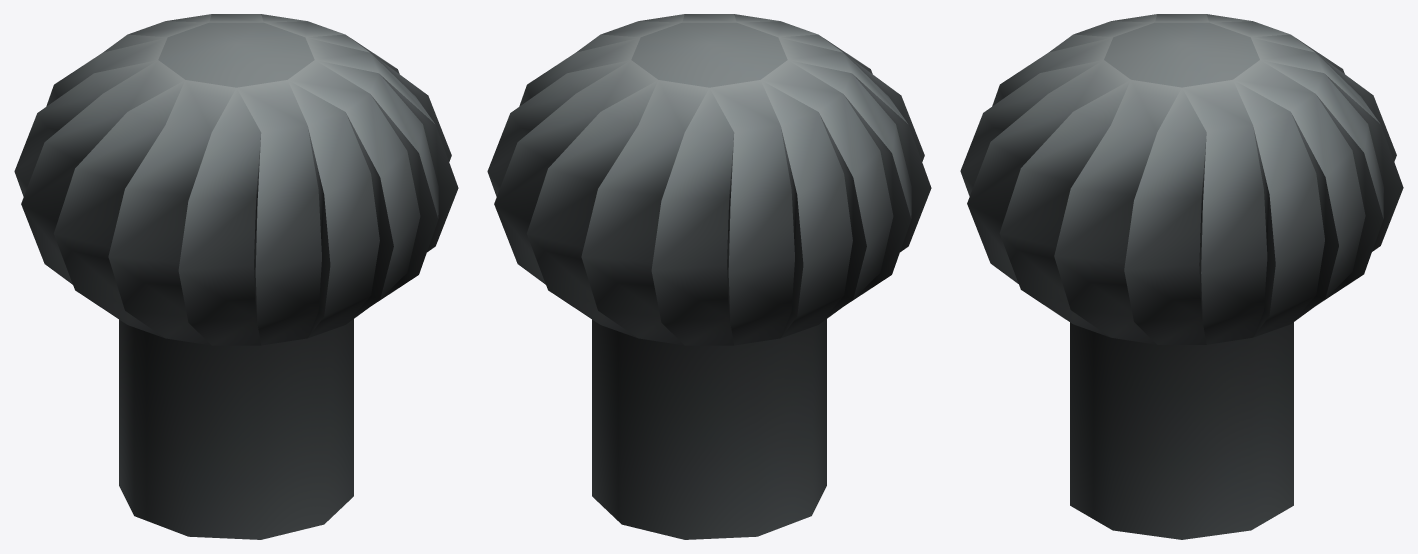
Rendered from Air_Vent_1A.fbx.
3 renders of one model, left to right at view 1: azimuth 30°, elevation 25°; view 2: azimuth 150°, elevation 25°; view 3: azimuth 270°, elevation 25°, orthographic.
Parts seen in each view (by area): view 1: Turbine, Air_Vent_1A; view 2: Turbine, Air_Vent_1A; view 3: Turbine, Air_Vent_1A.
Part boxes in pixels (x1,y1,x2,y2): Turbine: (14, 14, 458, 345); Air_Vent_1A: (119, 319, 353, 539); Turbine: (487, 14, 931, 345); Air_Vent_1A: (592, 319, 826, 539); Turbine: (960, 14, 1403, 344); Air_Vent_1A: (1070, 322, 1293, 539).
Size of the model in its own units: 1.98 by 2.2 by 1.98.
